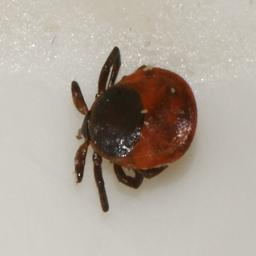Ixodes scapularis: (70, 46, 199, 214)
